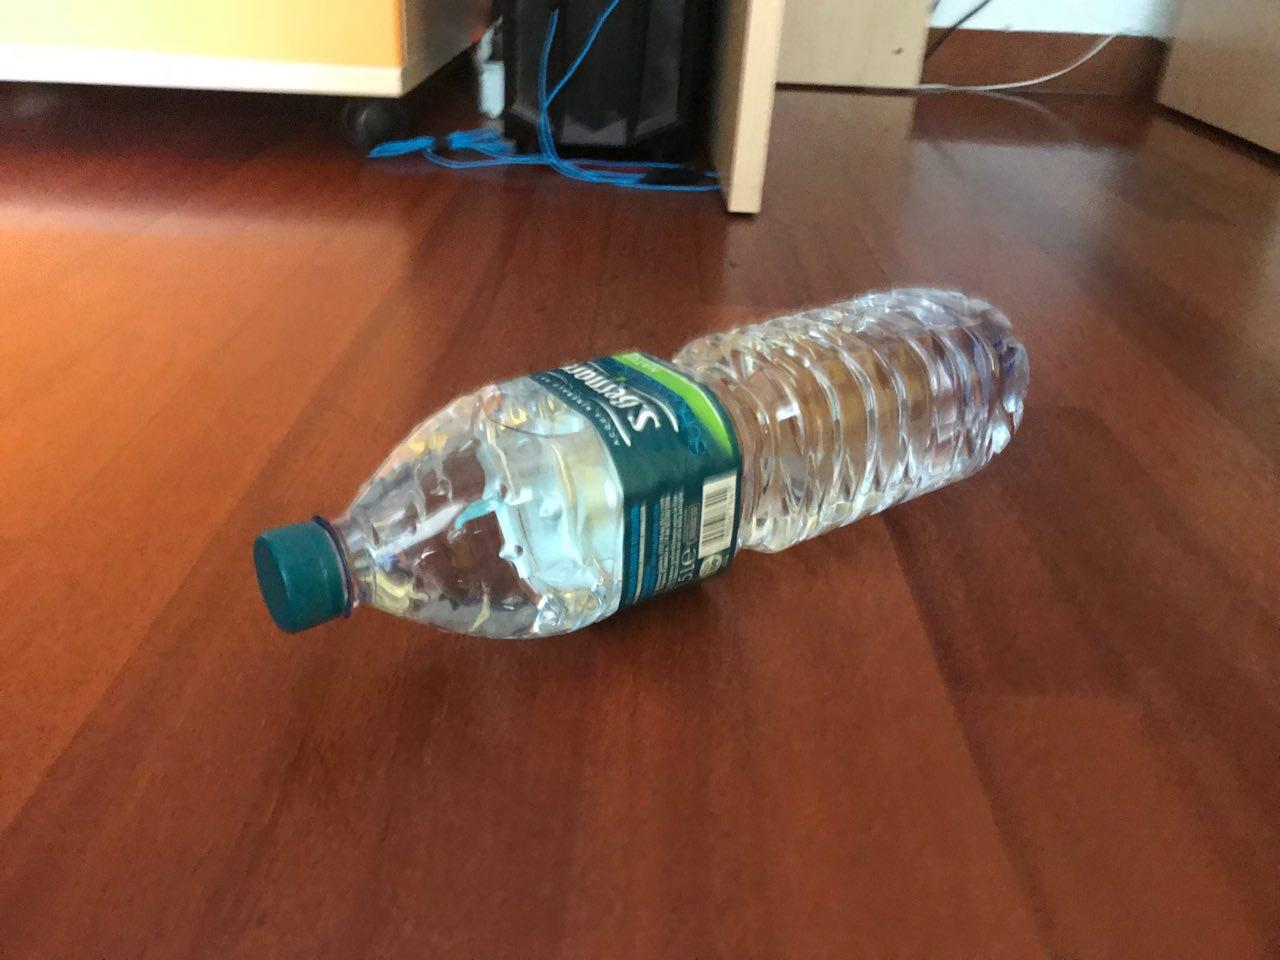san_bernardo: (249, 283, 1032, 643)
